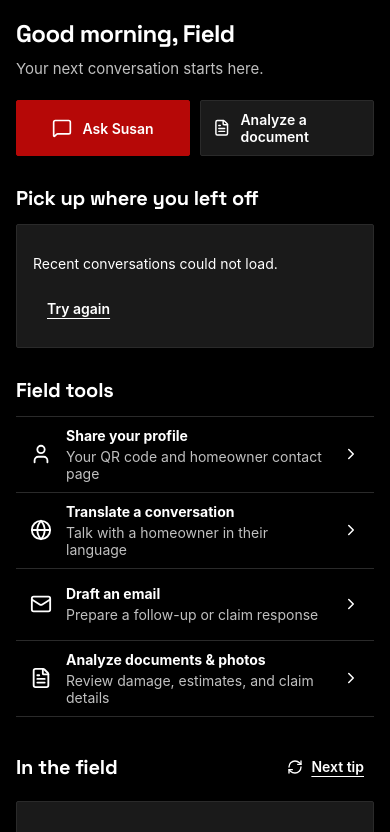
Test case: field home › offers a working retry after a failed request
Click the button "Try again" at coordinates (79, 309), box [33, 287, 124, 331]
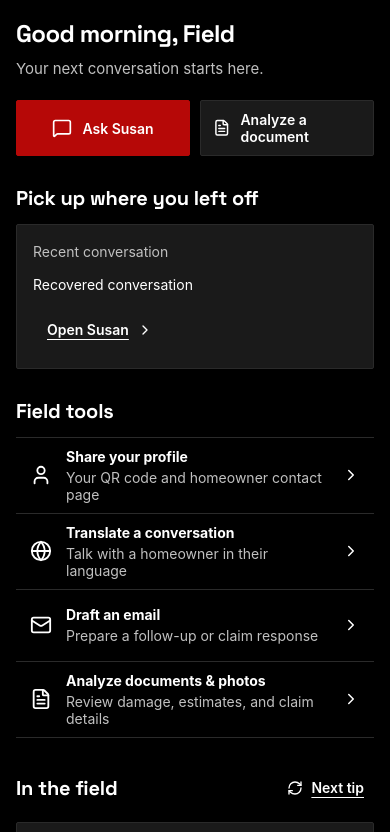
Result: the text "Recovered conversation" is shown at [33, 276, 193, 293]
Result: the button "Try again" is gone
